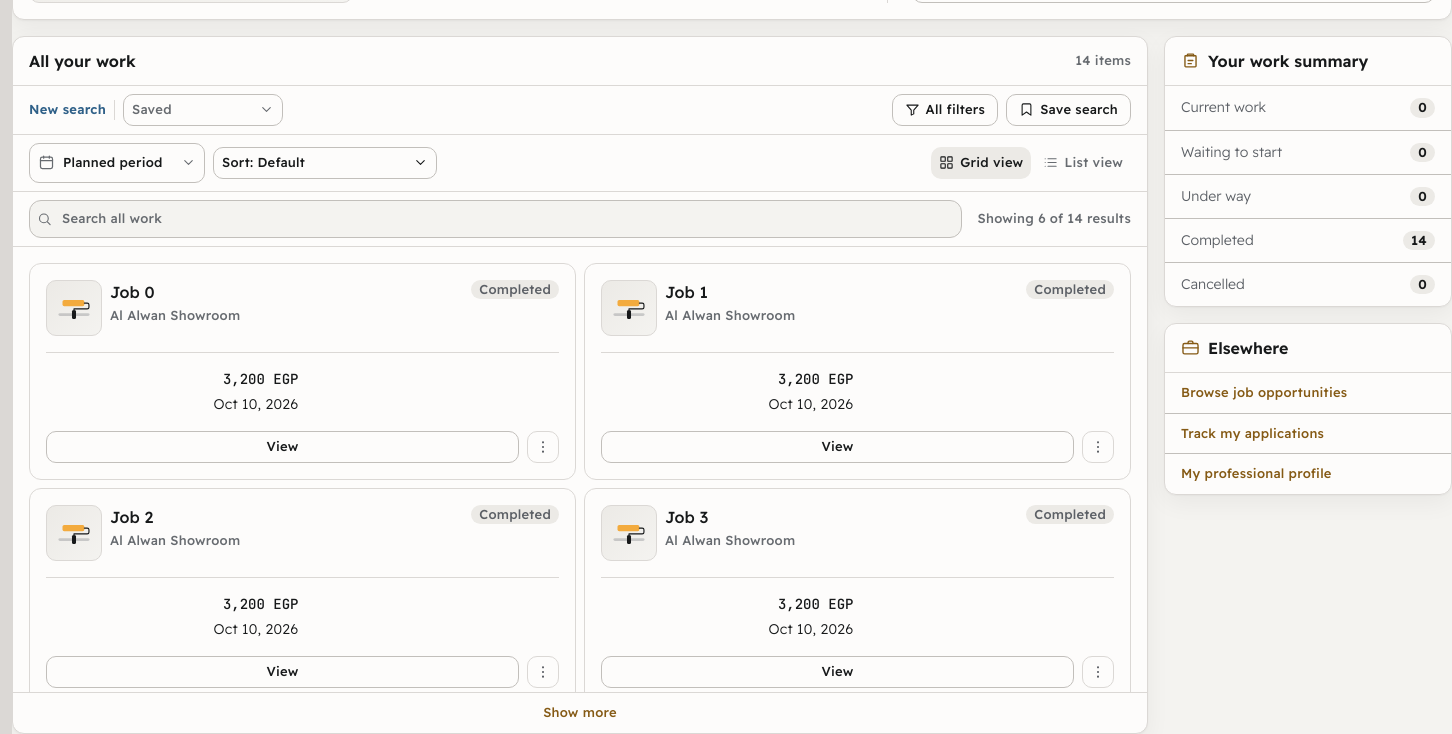
Scenario: production My Work — one approved presentation, only real capabilities › REAL paged append — the next page of the same question, loaded and appended › the exact total is re-stated by each page
(page scrolled)
Click the button "Show more" at (580, 713), box top-left (13, 693), bottom-right (1147, 733)
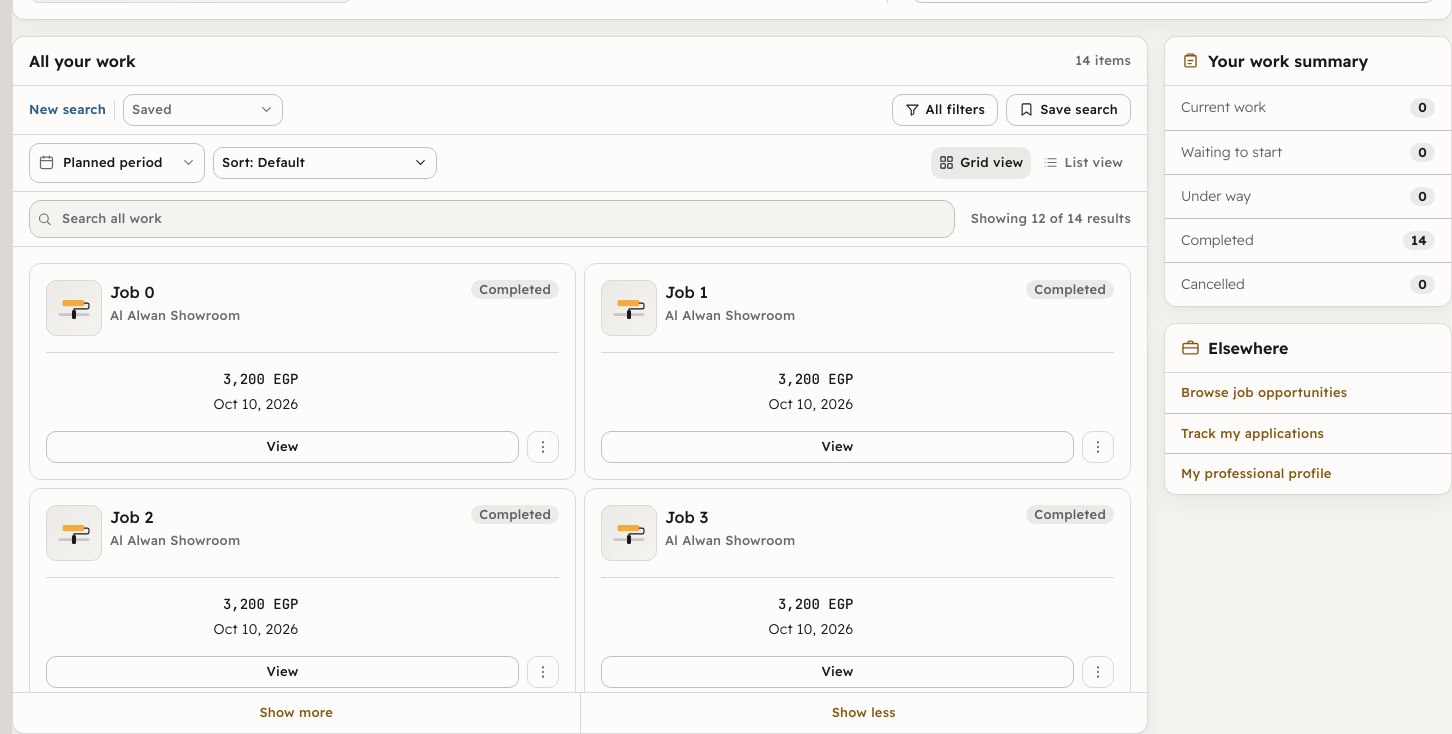
Click the button "Show more" at (296, 713), box top-left (13, 693), bottom-right (580, 733)
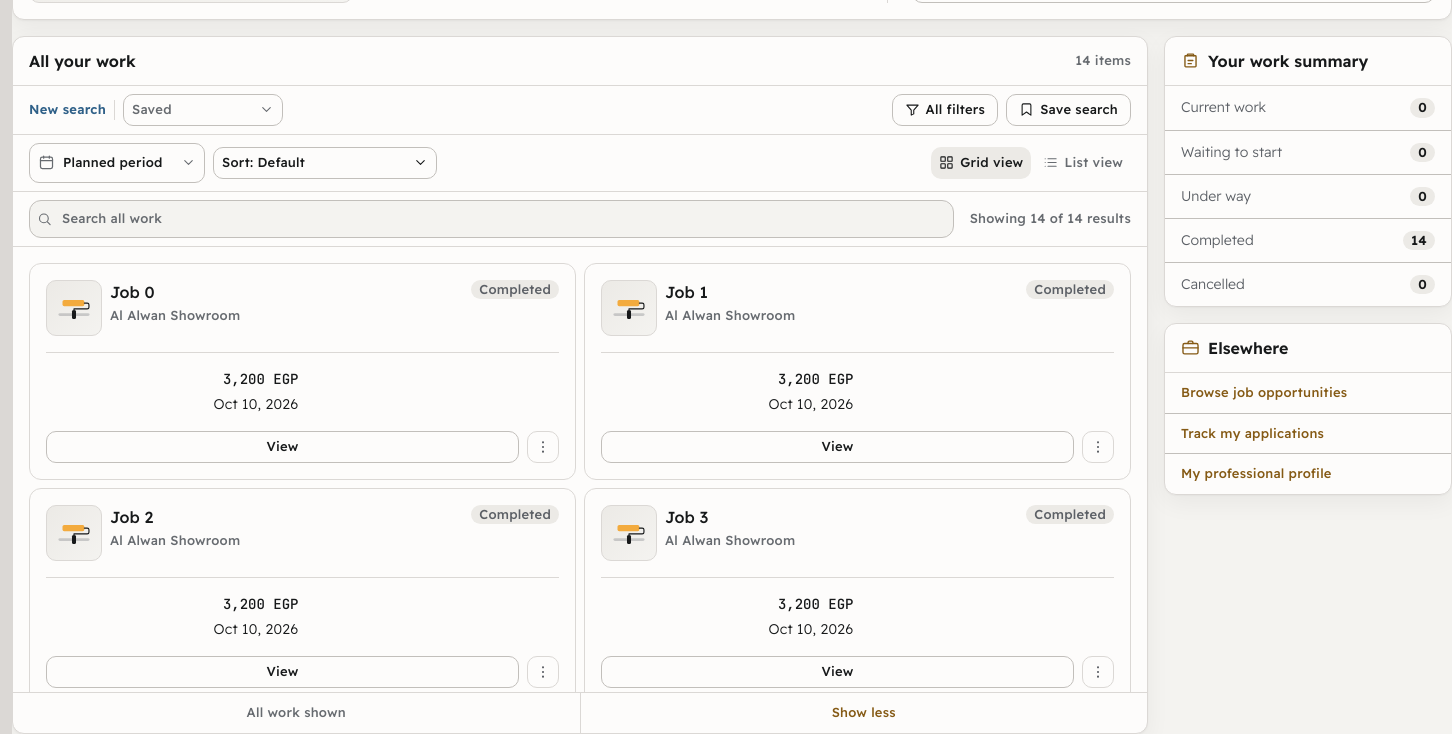
Check: the text "14 items" is shown, box top-left (1075, 53), bottom-right (1131, 69)
Check: the button "All work shown" is disabled, box top-left (13, 693), bottom-right (580, 733)
